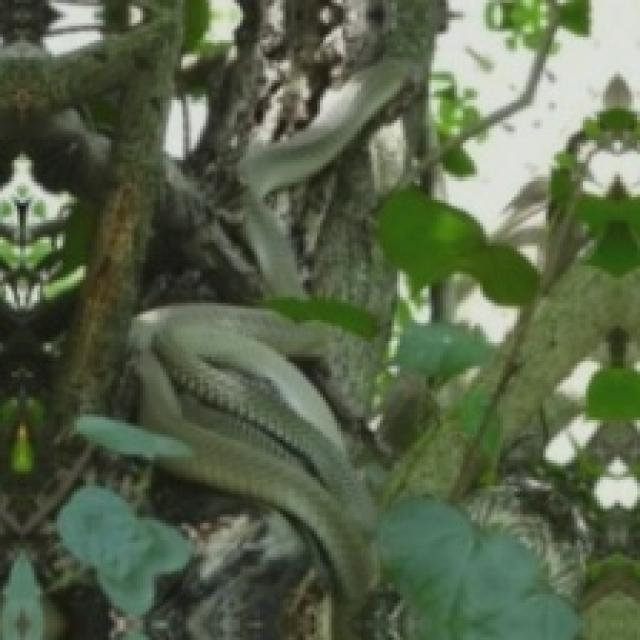king cobra: (131, 303, 374, 611), (244, 189, 304, 296)
